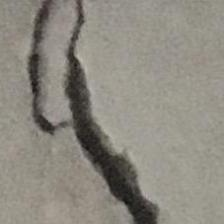Crack: (24, 0, 224, 224)
